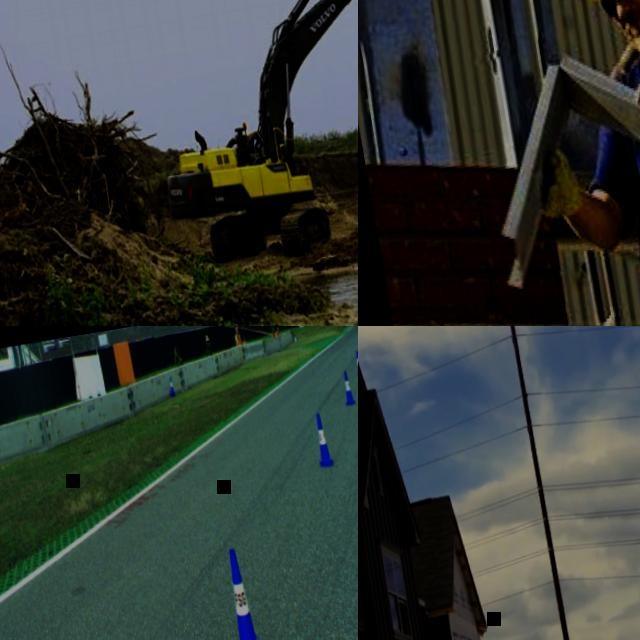NO-Hardhat: (174, 341, 177, 347), (206, 337, 209, 343), (235, 329, 238, 334)
NO-Mask: (620, 6, 640, 52)
NO-Safety Vest: (173, 350, 181, 365), (204, 342, 211, 355)
Person: (484, 0, 640, 326), (172, 338, 183, 367), (203, 335, 212, 356), (233, 328, 241, 346), (270, 328, 276, 340), (242, 337, 247, 346), (277, 328, 281, 335)
Safety Cone: (215, 546, 267, 640), (310, 413, 333, 469), (340, 372, 355, 406), (353, 350, 358, 376), (168, 378, 174, 397)
Safety Vest: (236, 334, 242, 347), (242, 339, 246, 345), (276, 331, 280, 336)
machinery: (130, 0, 358, 274)
